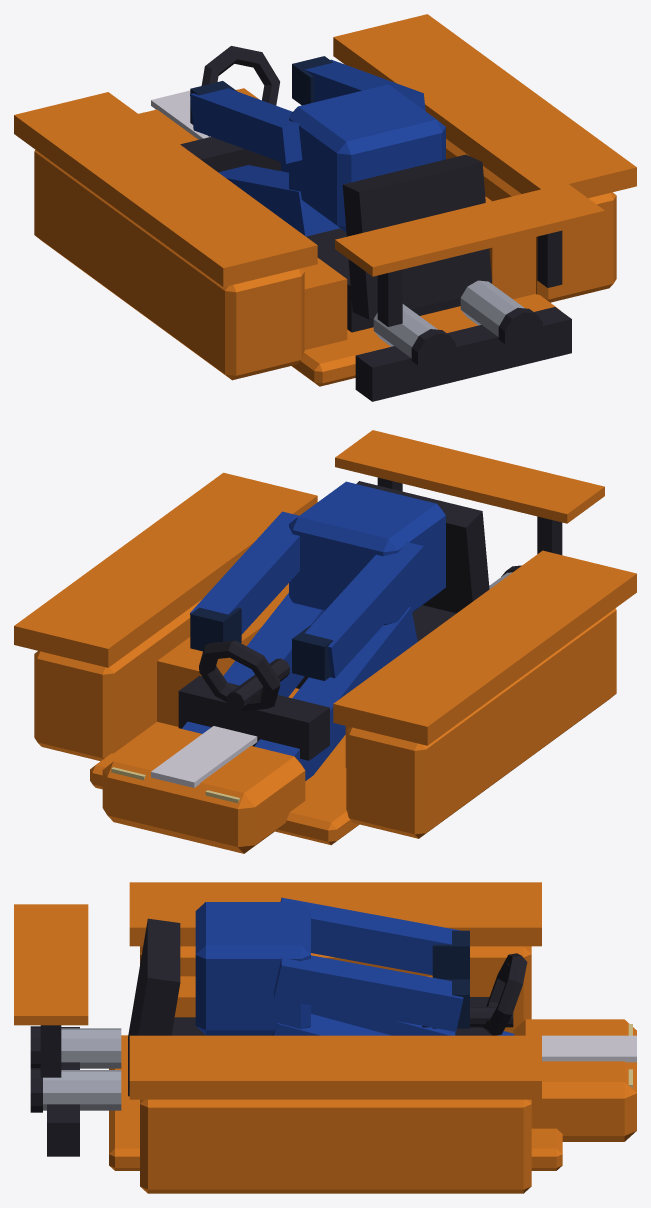
Rendered from jp_body.glb.
The picture shows the model from 3 angles, top to bottom: view 1: azimuth 30°, elevation 25°; view 2: azimuth 150°, elevation 25°; view 3: azimuth 270°, elevation 25°; orthographic projection.
Parts seen in each view (by area): view 1: jp_body; view 2: jp_body; view 3: jp_body.
Boxes of the visible parts, x1,y1,x2,y2 form: jp_body: (14, 14, 636, 401); jp_body: (14, 430, 636, 853); jp_body: (14, 882, 636, 1193).
Size of the model in its own units: 11.4 by 5.1 by 15.1.
